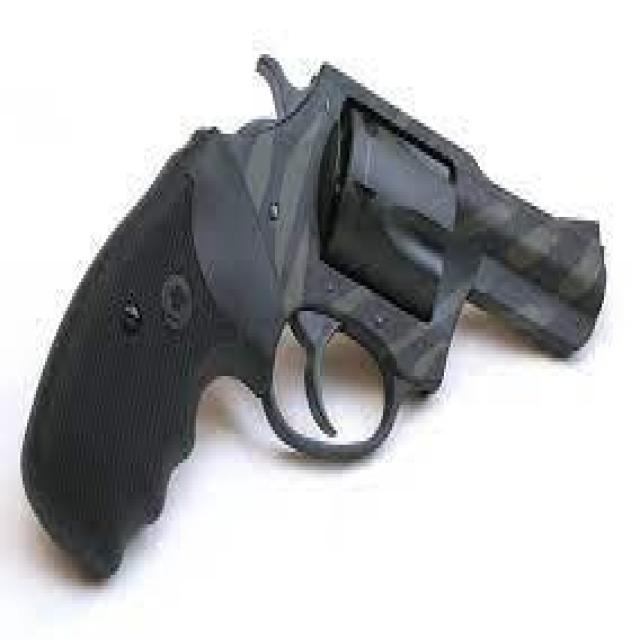Gun: (36, 34, 610, 568)
